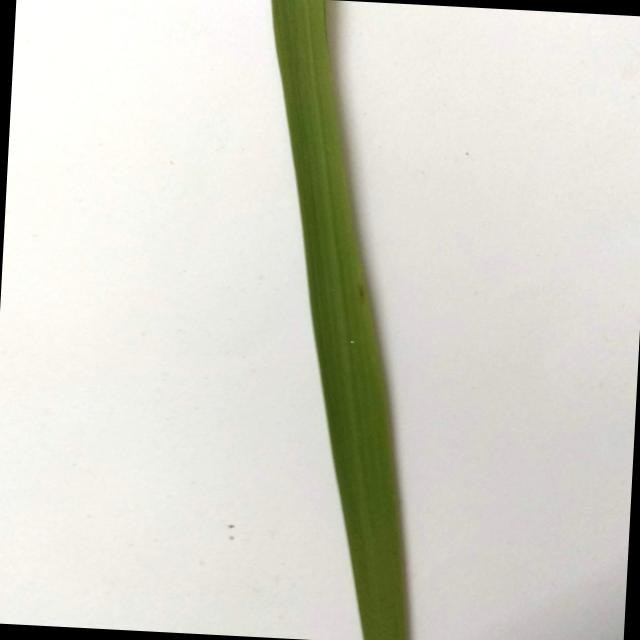Rice_Healthy: (272, 0, 410, 640)
